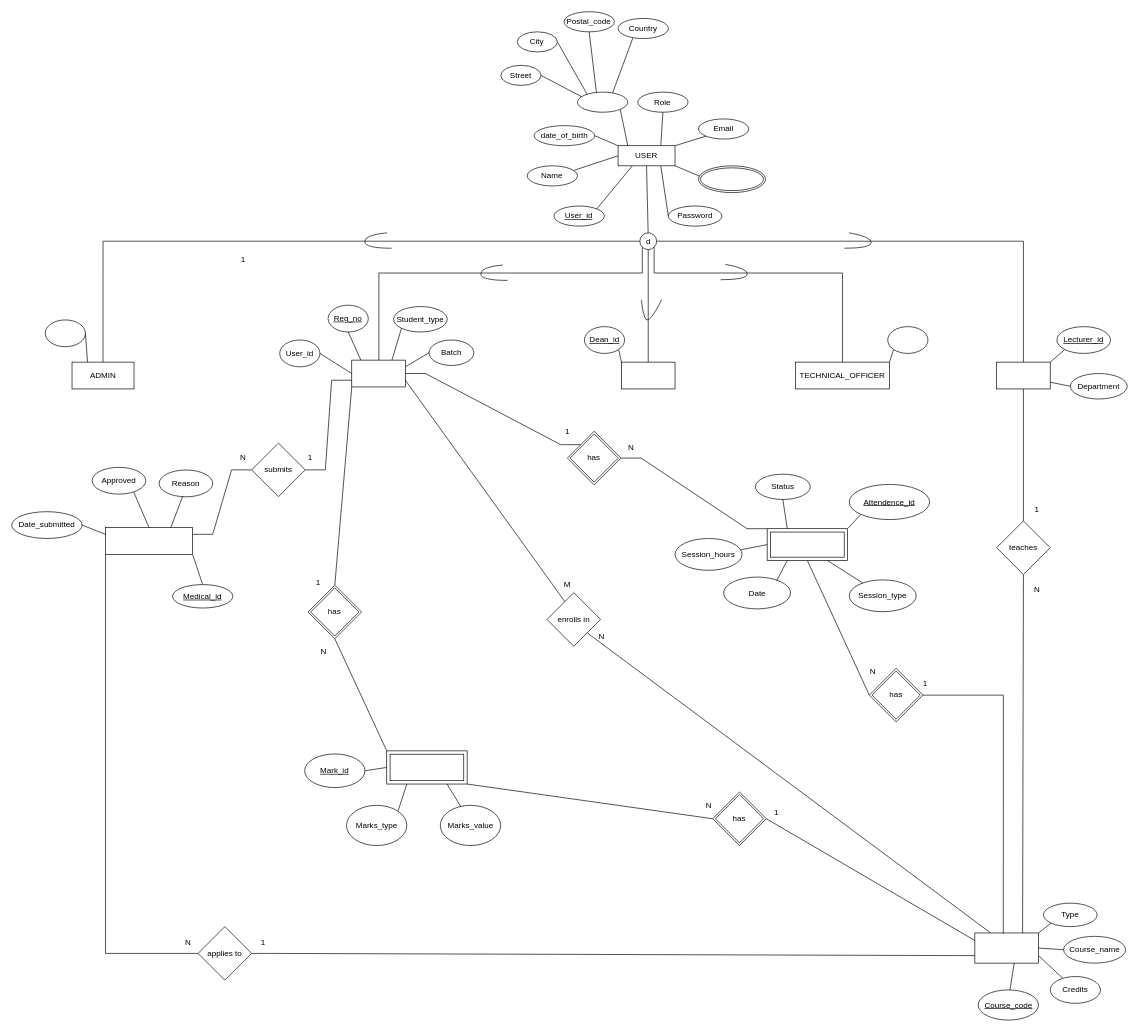
Some shapes in this 1139 by 1032 pixel diagram are drawn without their labels. Here are the shapes that lost their labels. From the top down, the centre of each, then its label:
point (602, 101): Address
point (731, 179): Contact_no
point (65, 333): Admin_id
point (907, 339): TO_id
point (378, 373): STUDENT
point (648, 375): DEAN
point (1023, 375): LECTURER
point (149, 540): MEDICAL_RECORD
point (807, 544): ATTENDENCE
point (426, 767): MARKS
point (1006, 947): COURSE
